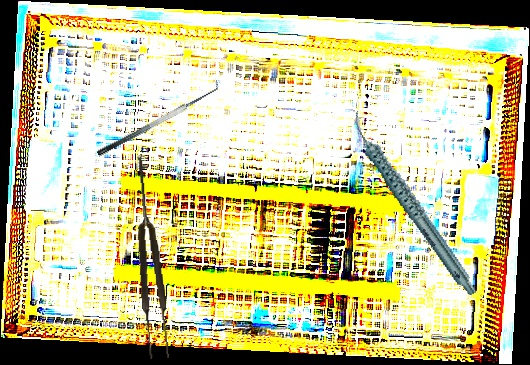Handpiece: (349, 94, 477, 313)
Spatula Surgical: (91, 77, 224, 158)
Tissue Forceps: (129, 153, 171, 361)
